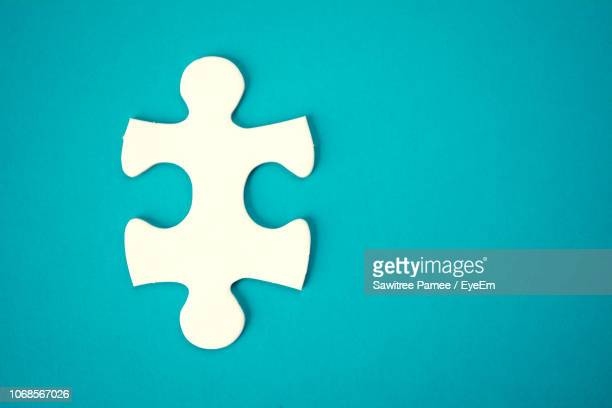puzzle piece: (108, 47, 337, 357)
